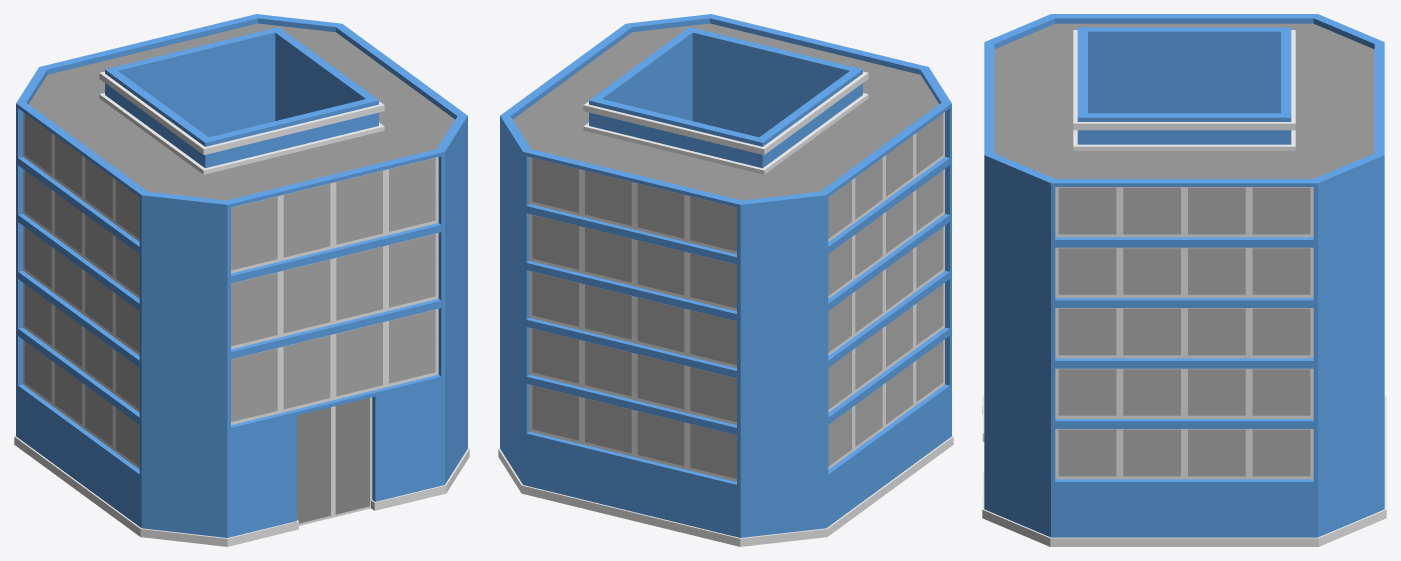
Rendered from SM_House_17_04.FBX.
3 views of the same model, side by side, from view 1: azimuth 30°, elevation 25°; view 2: azimuth 150°, elevation 25°; view 3: azimuth 270°, elevation 25° (orthographic). The views are drawn at different scales.
Parts seen in each view (by area): view 1: SM_House_17_04; view 2: SM_House_17_04; view 3: SM_House_17_04.
Boxes of the visible parts, <box> form: SM_House_17_04: <box>14,14,469,546</box>; SM_House_17_04: <box>498,14,953,546</box>; SM_House_17_04: <box>982,14,1386,546</box>.
Bounding box in the file's own units: 6.06 × 6.43 × 6.06.
Materials: 1 (1 with a texture image).
